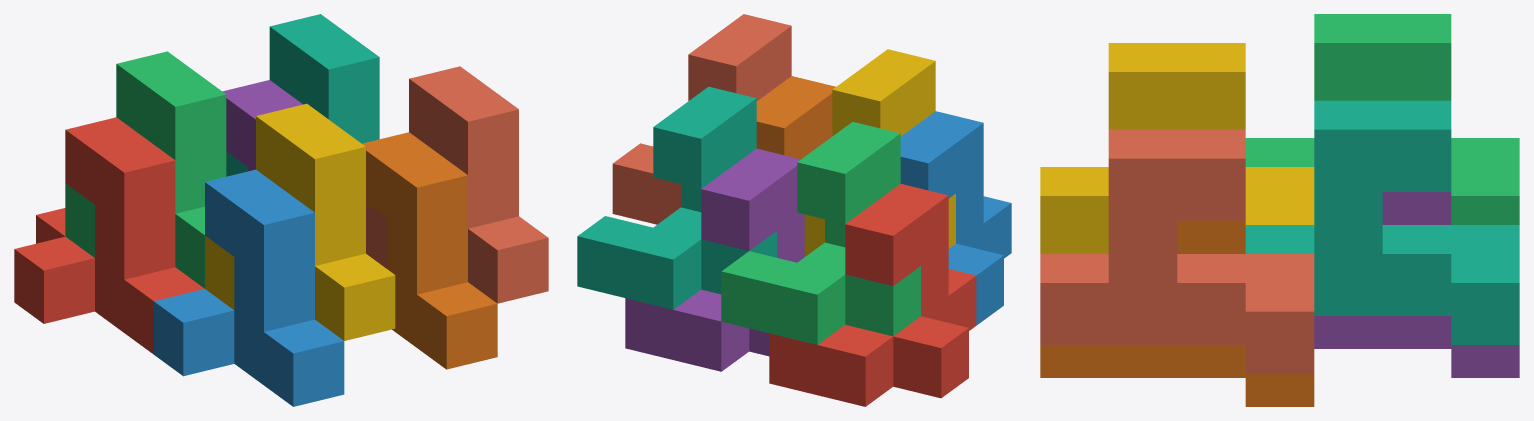
File: tiling.obj
The picture shows the model from 3 angles, left to right: view 1: azimuth 30°, elevation 25°; view 2: azimuth 150°, elevation 25°; view 3: azimuth 270°, elevation 25°; orthographic projection. The views are drawn at different scales.
Visible parts, largest first — view 1: copy_1_domain_2, copy_1_domain_1, copy_1_domain_6, copy_1_domain_4, copy_1_domain_8, copy_1_domain_3, copy_1_domain_7, copy_1_domain_5; view 2: copy_1_domain_1, copy_1_domain_3, copy_1_domain_7, copy_1_domain_5, copy_1_domain_2, copy_1_domain_8, copy_1_domain_4, copy_1_domain_6; view 3: copy_1_domain_8, copy_1_domain_7, copy_1_domain_4, copy_1_domain_3, copy_1_domain_6, copy_1_domain_5.
Part boxes in pixels (bbox=[...]): copy_1_domain_2: bbox=[154, 169, 344, 406]; copy_1_domain_1: bbox=[14, 117, 204, 354]; copy_1_domain_6: bbox=[362, 132, 497, 369]; copy_1_domain_4: bbox=[205, 103, 395, 340]; copy_1_domain_8: bbox=[366, 66, 548, 303]; copy_1_domain_3: bbox=[65, 51, 226, 288]; copy_1_domain_7: bbox=[226, 14, 379, 176]; copy_1_domain_5: bbox=[222, 80, 302, 171]; copy_1_domain_1: bbox=[769, 183, 976, 406]; copy_1_domain_3: bbox=[721, 122, 920, 344]; copy_1_domain_7: bbox=[577, 86, 776, 309]; copy_1_domain_5: bbox=[625, 148, 804, 371]; copy_1_domain_2: bbox=[900, 111, 1011, 325]; copy_1_domain_8: bbox=[612, 14, 791, 224]; copy_1_domain_4: bbox=[804, 49, 955, 256]; copy_1_domain_6: bbox=[756, 76, 835, 159]; copy_1_domain_8: bbox=[1040, 129, 1314, 373]; copy_1_domain_7: bbox=[1245, 100, 1519, 344]; copy_1_domain_4: bbox=[1040, 43, 1314, 253]; copy_1_domain_3: bbox=[1245, 14, 1519, 224]; copy_1_domain_6: bbox=[1040, 220, 1314, 406]; copy_1_domain_5: bbox=[1314, 192, 1519, 377].
Size of the model in its own units: 8 by 4 by 7.
